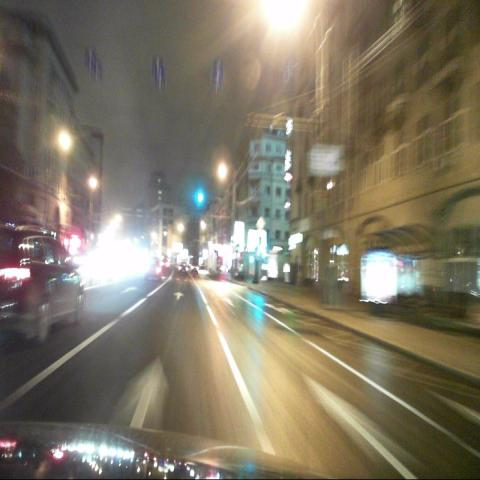5_15_2: (151, 53, 164, 76)
